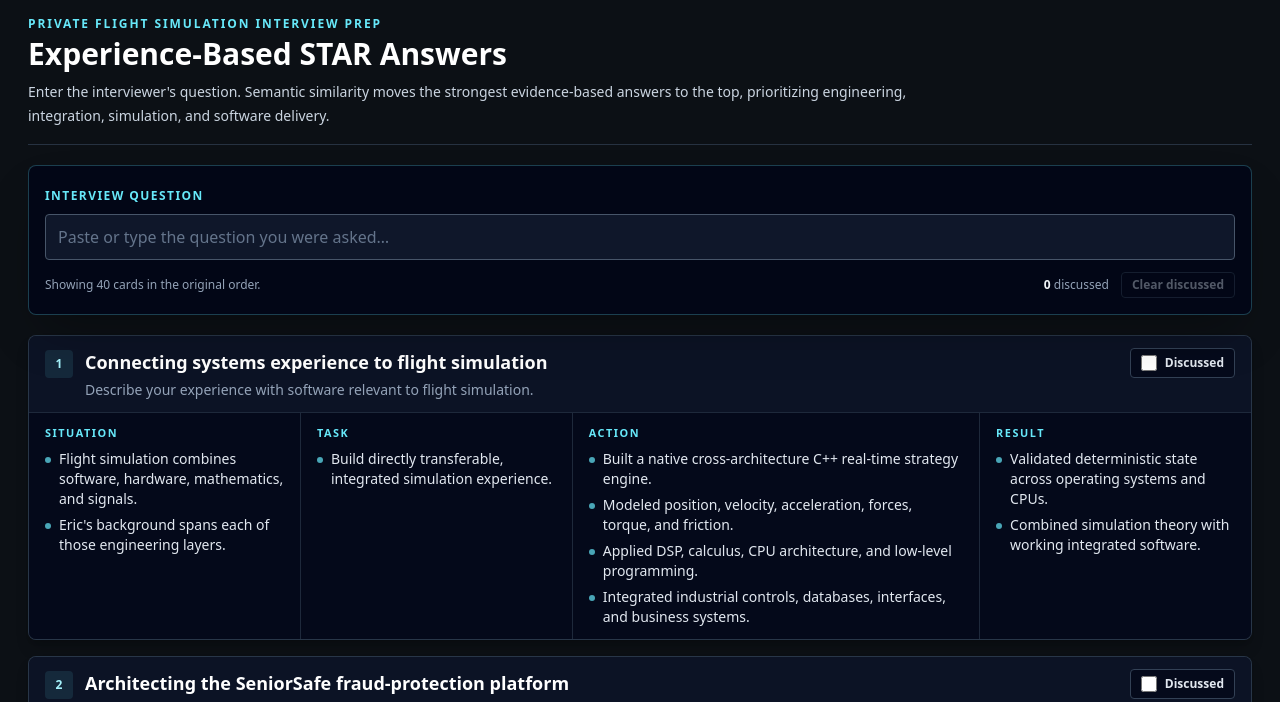
Test: STAR flash cards › places backend-ranked cards first
This screenshot has width=1280, height=702.
In the search field labelled "Interview question": [640, 237] box [45,214,1235,260], type "Tell me about simulation performance"
Wait 500 ms
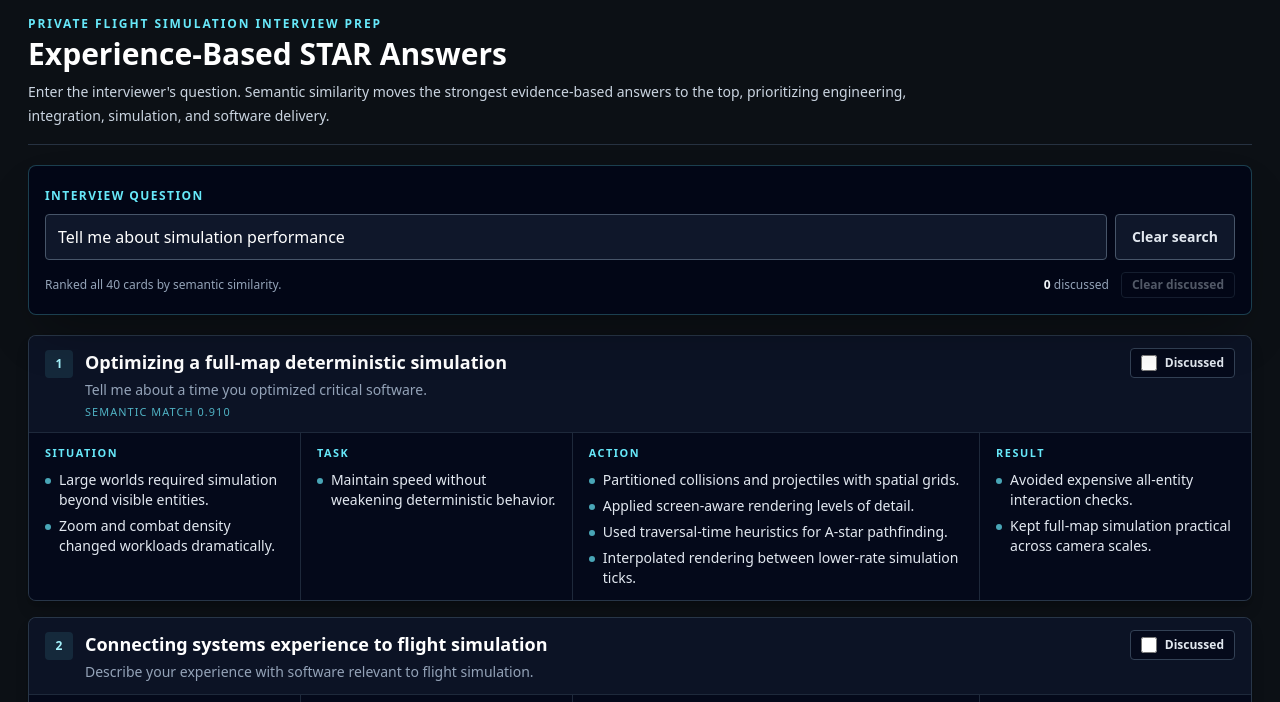
Expected: the heading "Optimizing a full-map deterministic simulation" is shown, [85,348,507,376]
Expected: the text "Ranked all 40 cards by semantic similarity." is shown, [45,277,282,293]
